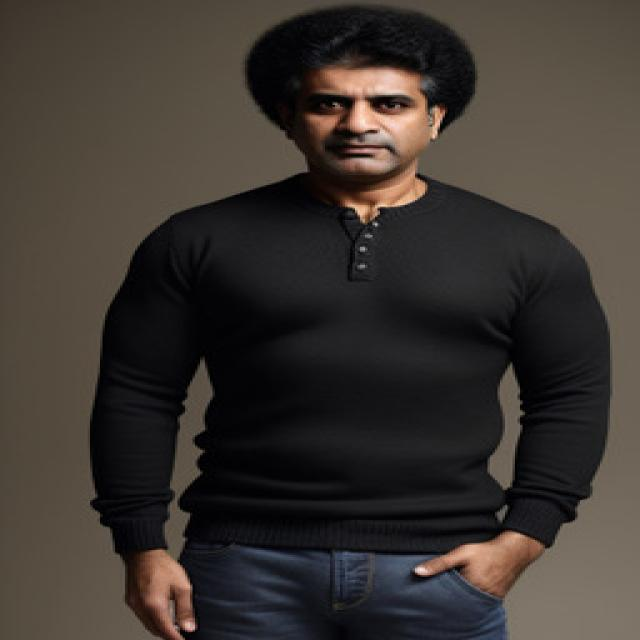Ai human 2: (80, 0, 631, 640)
